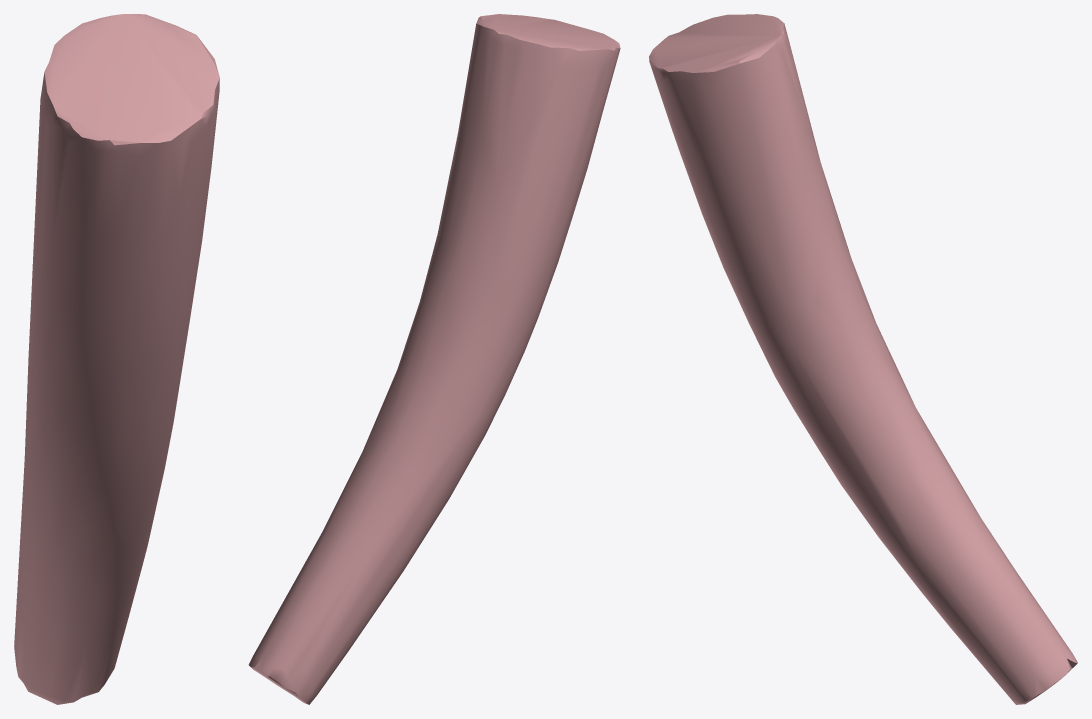
Rendered from fma68220_fj2490.glb.
3 views of the same model, side by side, from view 1: azimuth 30°, elevation 25°; view 2: azimuth 150°, elevation 25°; view 3: azimuth 270°, elevation 25° (orthographic). The views are drawn at different scales.
Parts seen in each view (by area): view 1: FMA68220_FJ2490; view 2: FMA68220_FJ2490; view 3: FMA68220_FJ2490.
Part boxes in pixels (bbox=[...]): FMA68220_FJ2490: bbox=[14, 14, 219, 704]; FMA68220_FJ2490: bbox=[248, 14, 620, 704]; FMA68220_FJ2490: bbox=[649, 14, 1077, 704].
Size of the model in its own units: 0.0062 by 0.0179 by 0.0111.
